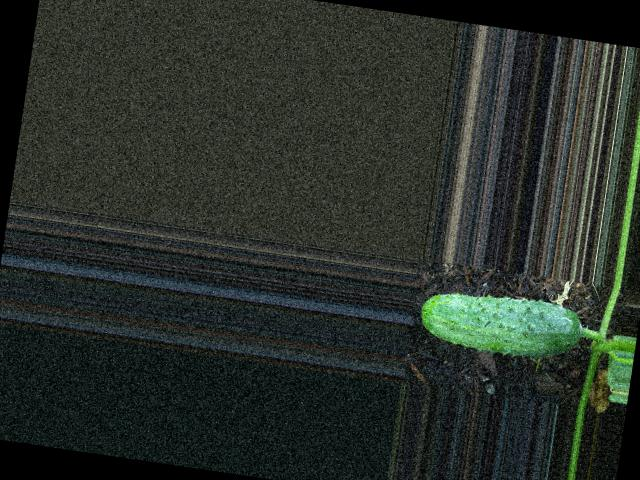cucumber: (415, 283, 584, 365)
